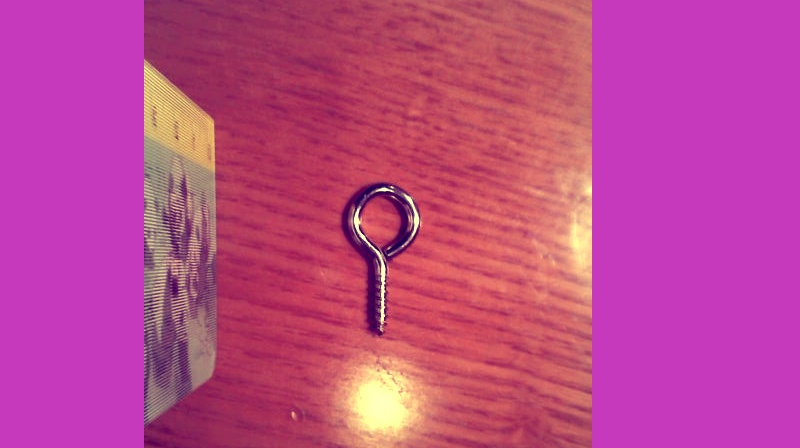O001: (338, 174, 424, 336)
